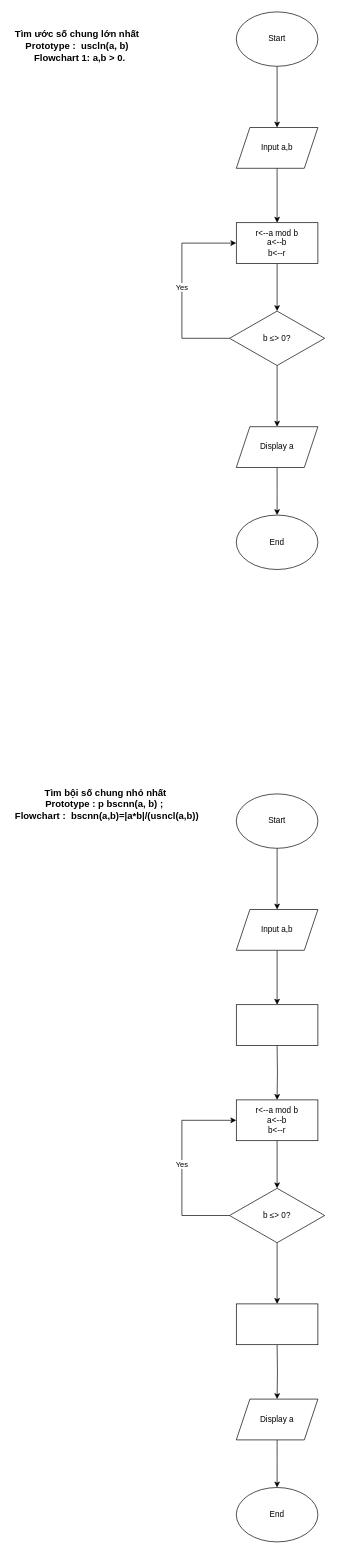
The diagram is 337 pixels wide and 1554 high, and some of its shapes have lost their labels. The shapes that lost their labels are listed below. From the top down, each one's box as (x1, y1, x2, y2) in pixels, then its label:
(236, 1004, 318, 1046): p<--a*b
(236, 1303, 318, 1345): p<--p/a
